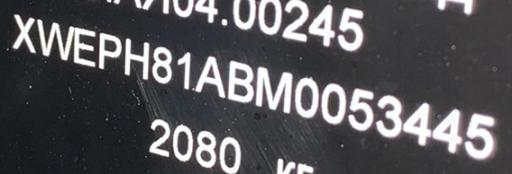letter: (254, 64, 292, 122), (401, 96, 435, 149), (34, 18, 72, 63), (193, 52, 227, 102), (224, 57, 256, 109), (466, 110, 498, 161), (434, 104, 464, 155), (123, 33, 151, 84), (348, 86, 374, 138), (292, 74, 320, 122), (320, 79, 346, 129), (8, 12, 38, 55), (376, 92, 402, 141), (96, 30, 122, 77), (72, 26, 96, 71), (150, 44, 174, 88), (176, 46, 192, 94)
